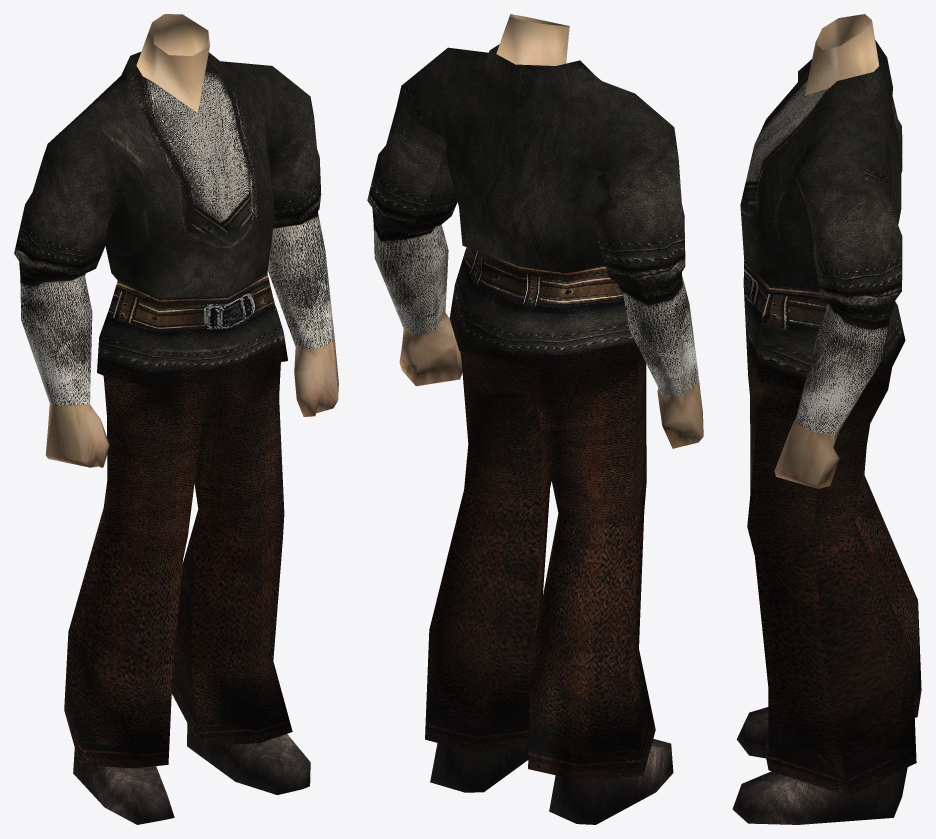
The model's file is GS_ARMOR_LEATHER_L_02.glb.
The picture shows the model from 3 angles, left to right: view 1: azimuth 30°, elevation 25°; view 2: azimuth 150°, elevation 25°; view 3: azimuth 270°, elevation 25°; orthographic projection. The views are drawn at different scales.
Visible parts, largest first — view 1: GS_ARMOR_LEATHER_L_02; view 2: GS_ARMOR_LEATHER_L_02; view 3: GS_ARMOR_LEATHER_L_02.
Boxes of the visible parts, x1,y1,x2,y2 form: GS_ARMOR_LEATHER_L_02: [14, 14, 338, 824]; GS_ARMOR_LEATHER_L_02: [367, 14, 703, 824]; GS_ARMOR_LEATHER_L_02: [732, 14, 921, 824].
Size of the model in its own units: 0.6898 by 1.68 by 0.3778.
Materials: 2 (2 with a texture image).
